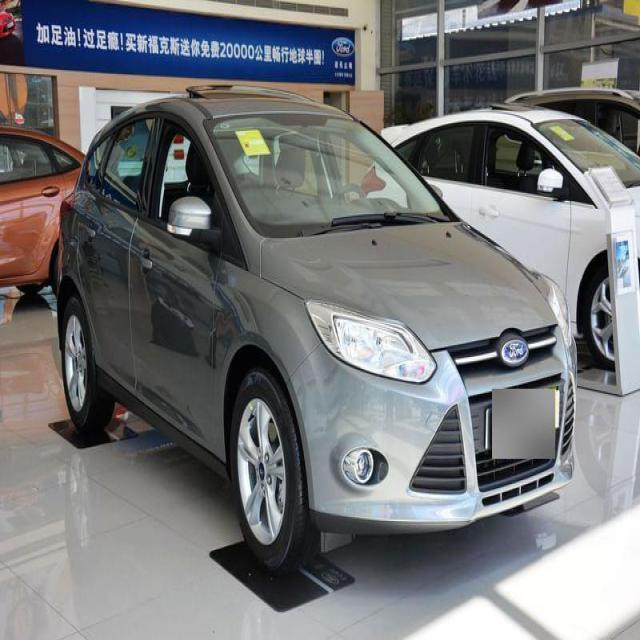back_right_side_light: (60, 192, 75, 234)
door: (82, 114, 160, 378)
front_bumper: (291, 354, 577, 537)
front_glass: (210, 118, 443, 228)
front_left_side_light: (538, 274, 572, 348)
front_right_side_door: (128, 108, 225, 459)
front_right_side_light: (306, 299, 438, 386)
front_right_side_mirror: (167, 196, 222, 251)
wheel: (230, 378, 309, 575), (62, 299, 113, 434)
